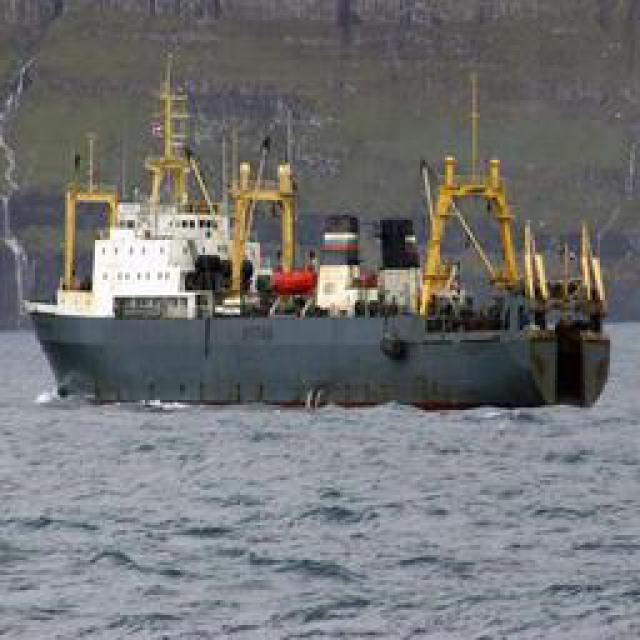Ship: (16, 71, 614, 414)
